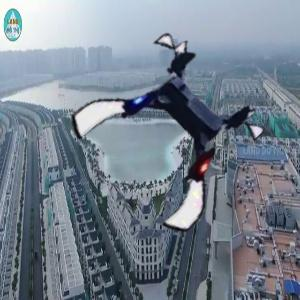drone: (89, 51, 258, 220)
